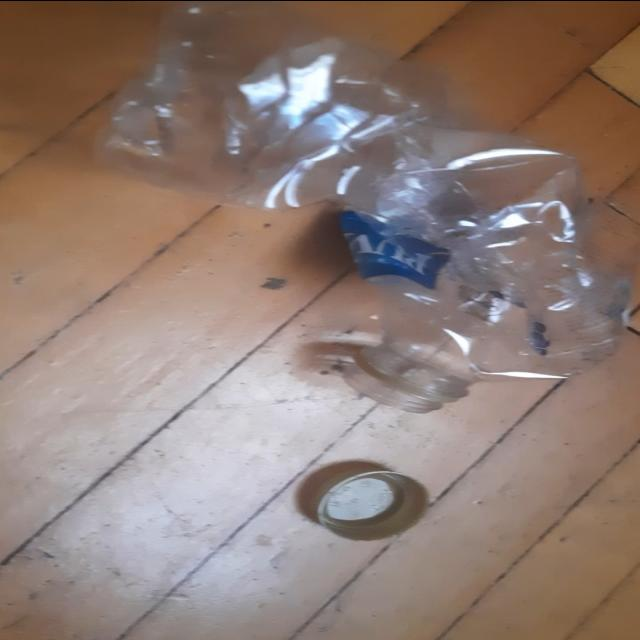Plastic: (93, 3, 631, 401)
